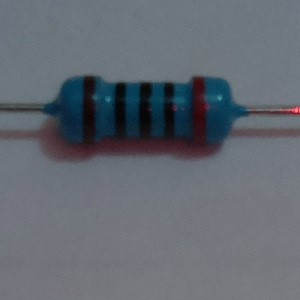black_band: (137, 79, 154, 141), (113, 80, 129, 139), (162, 79, 177, 141)
brown_band: (81, 73, 98, 146)
red_band: (191, 75, 208, 148)
